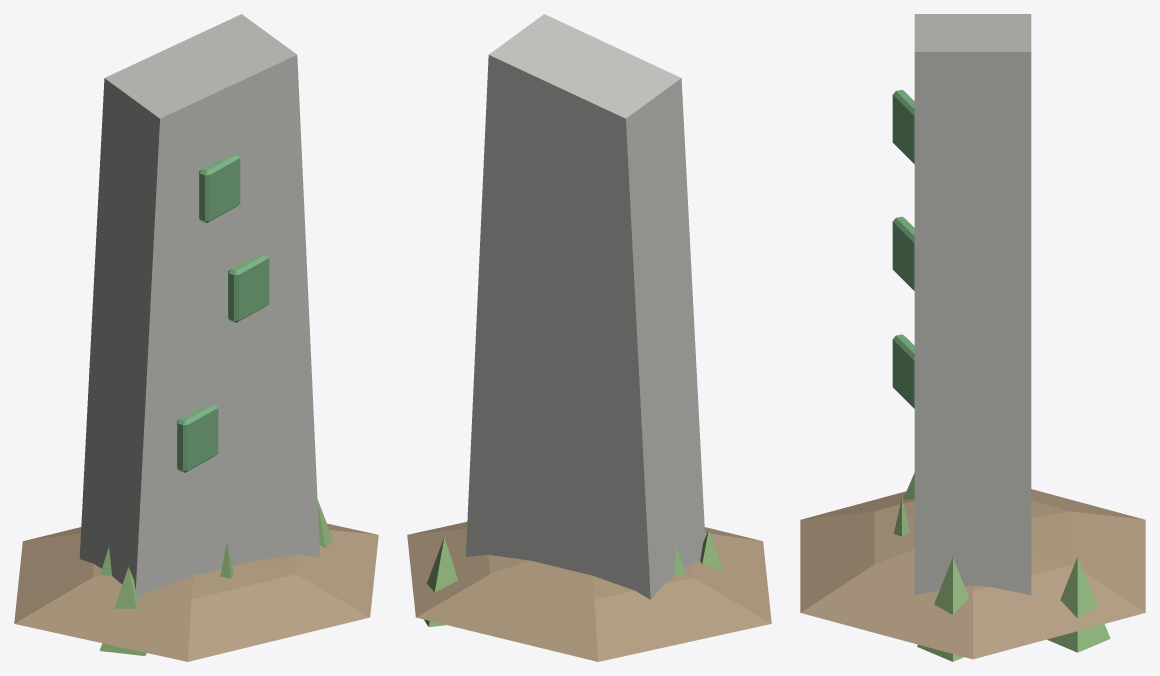
The model's file is standing-stone.glb.
3 views of the same model, side by side, from view 1: azimuth 30°, elevation 25°; view 2: azimuth 150°, elevation 25°; view 3: azimuth 270°, elevation 25° (orthographic). The views are drawn at different scales.
Parts seen in each view (by area): view 1: standing-stone; view 2: standing-stone; view 3: standing-stone.
Boxes of the visible parts, bbox=[...] form: standing-stone: bbox=[14, 14, 378, 661]; standing-stone: bbox=[407, 14, 771, 661]; standing-stone: bbox=[800, 14, 1145, 661].
Size of the model in its own units: 2.5 by 3.7 by 1.96.
